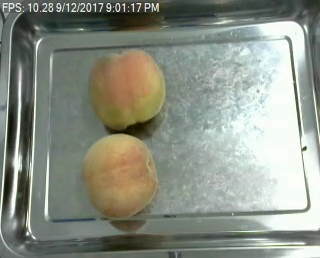Peach: (83, 133, 158, 219), (90, 46, 166, 127)
